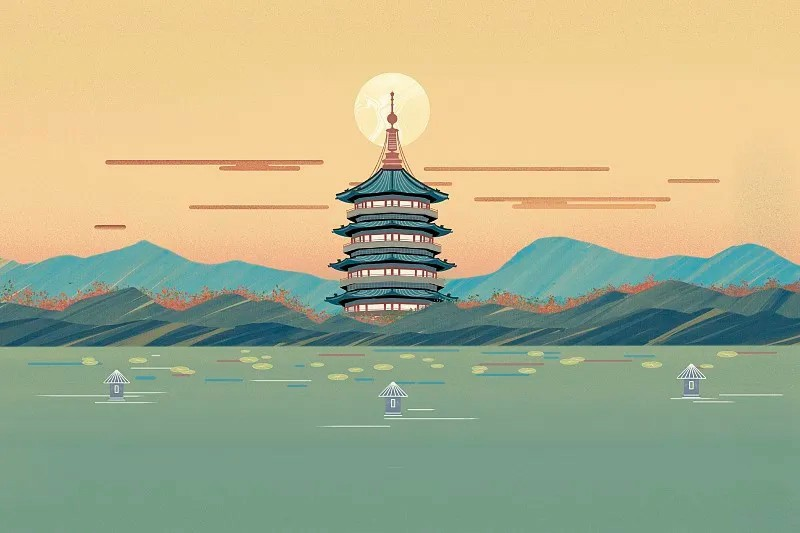Leifeng: (326, 89, 458, 321)
